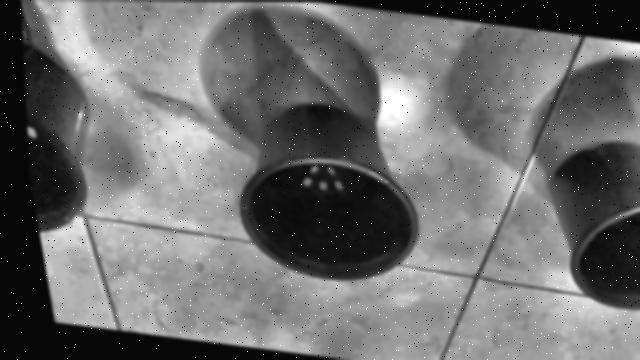pot: (237, 103, 416, 279), (547, 141, 640, 308), (22, 42, 87, 230)
